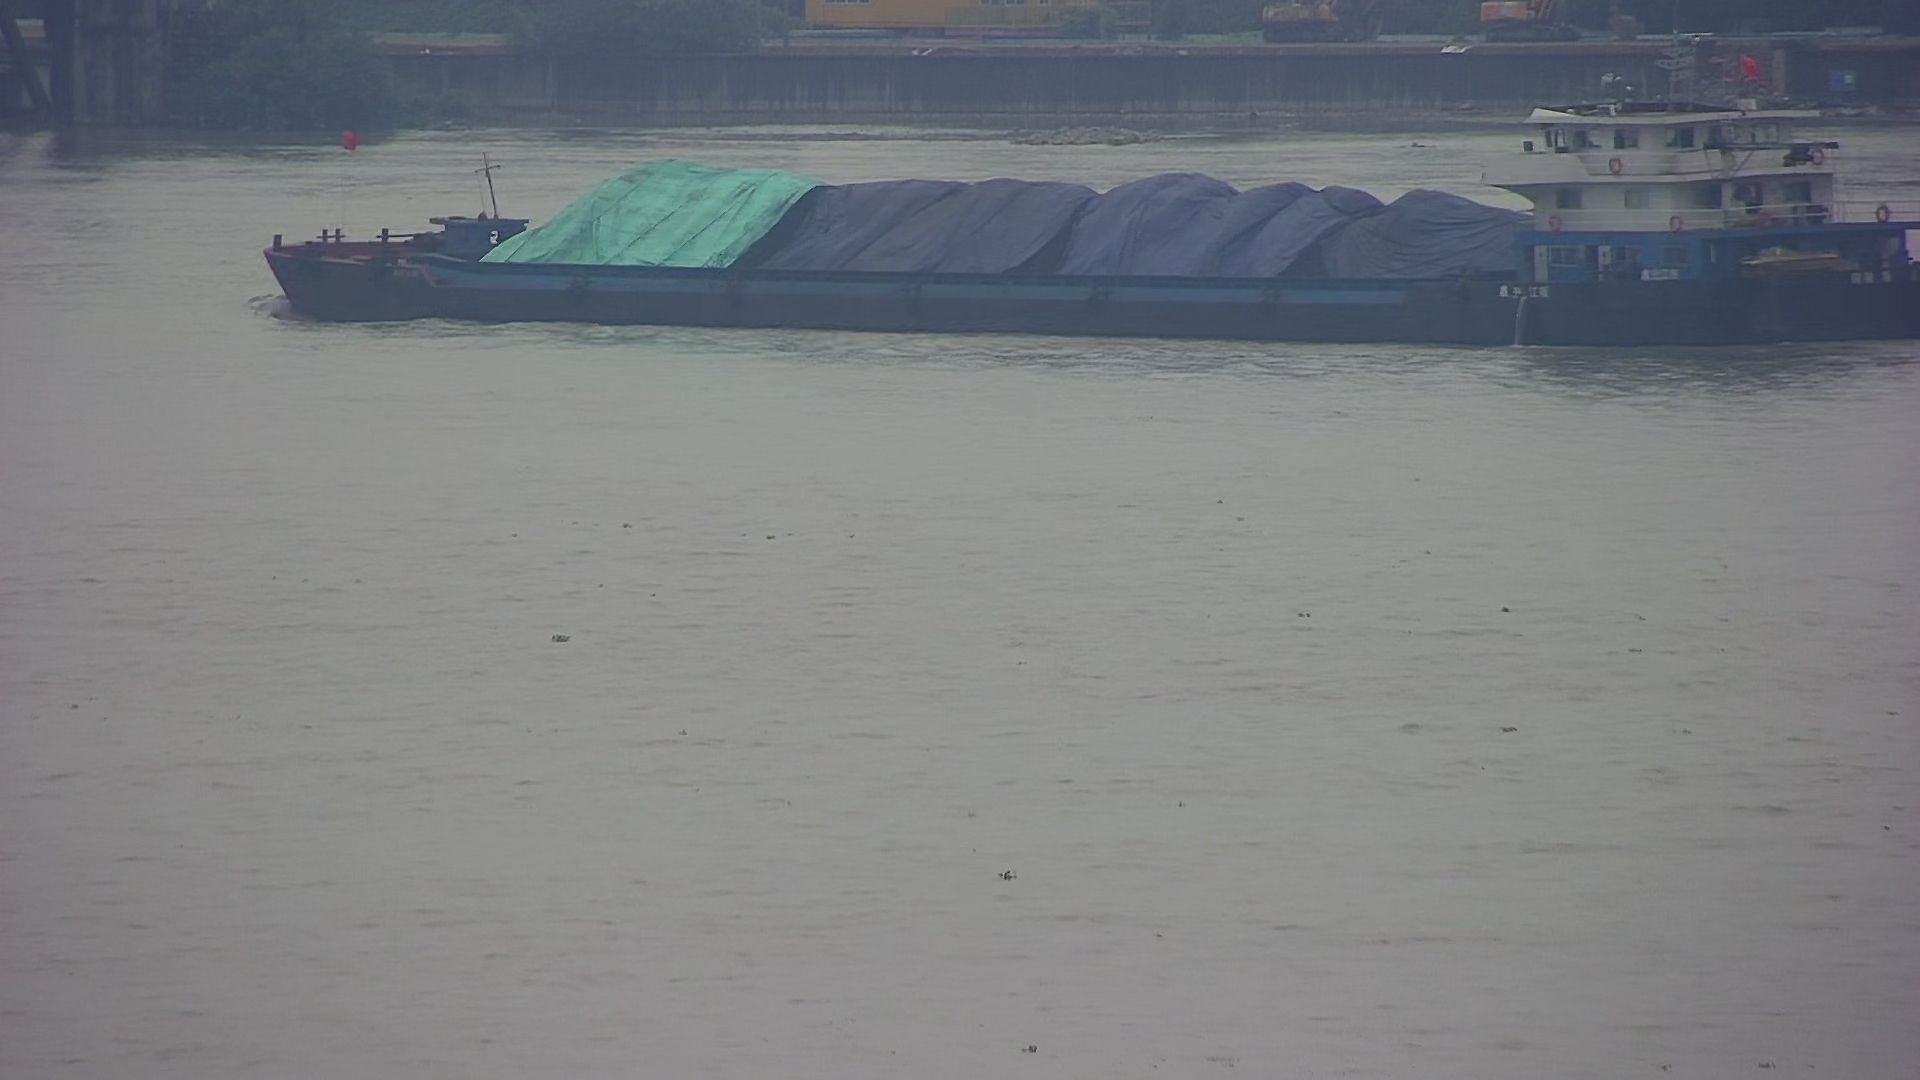ship: (265, 32, 1920, 367)
